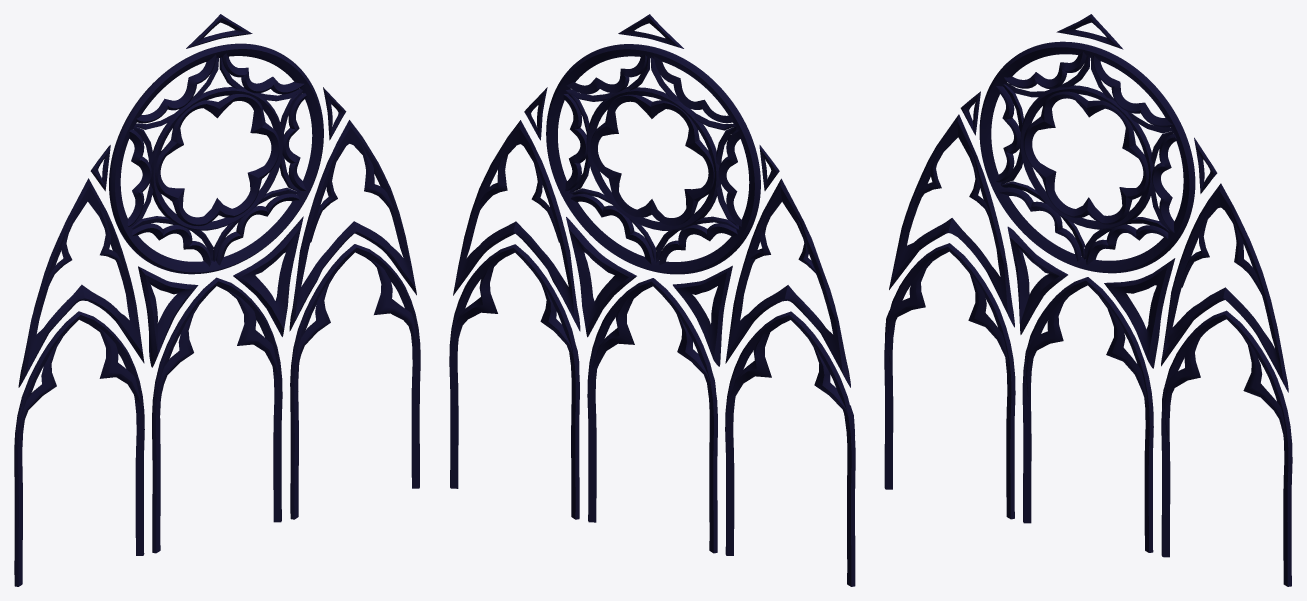
Rendered from Puerta_reja_arco.obj.
3 renders of one model, left to right at view 1: azimuth 30°, elevation 25°; view 2: azimuth 150°, elevation 25°; view 3: azimuth 330°, elevation 25°, orthographic.
Visible parts, largest first — view 1: BezierCircle.032_hk_banco_lampara; view 2: BezierCircle.032_hk_banco_lampara; view 3: BezierCircle.032_hk_banco_lampara.
Boxes of the visible parts, <box> form: BezierCircle.032_hk_banco_lampara: <box>14,14,420,586</box>; BezierCircle.032_hk_banco_lampara: <box>449,14,855,586</box>; BezierCircle.032_hk_banco_lampara: <box>884,14,1292,586</box>.
Bounding box in the file's own units: 19.31 × 23.72 × 0.6781.
